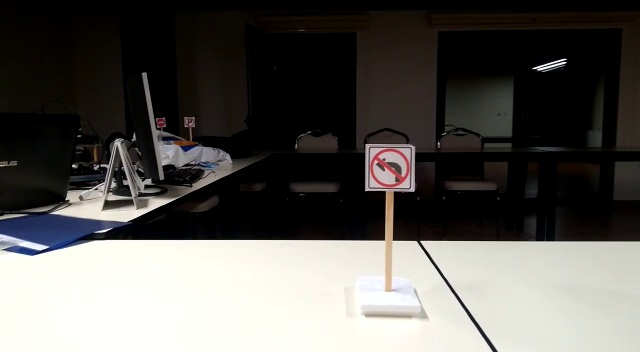sola_donulmez: (367, 149, 414, 190)
